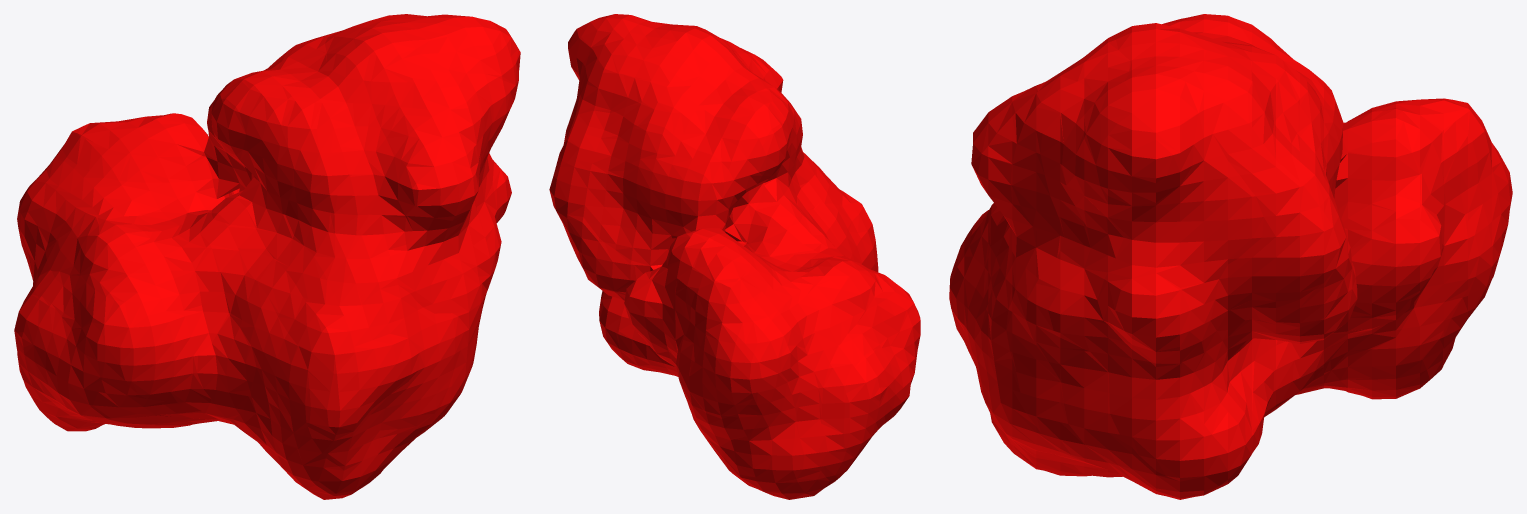
Rendered from Secretagogin_coarse.dae.
The picture shows the model from 3 angles, left to right: view 1: azimuth 30°, elevation 25°; view 2: azimuth 150°, elevation 25°; view 3: azimuth 270°, elevation 25°; orthographic projection. The views are drawn at different scales.
Parts seen in each view (by area): view 1: Secretagogin; view 2: Secretagogin; view 3: Secretagogin.
Boxes of the visible parts, bbox=[...] form: Secretagogin: bbox=[14, 14, 520, 499]; Secretagogin: bbox=[549, 14, 920, 499]; Secretagogin: bbox=[949, 14, 1512, 499].
Bounding box in the file's own units: 59.48 × 55.03 × 57.04.
